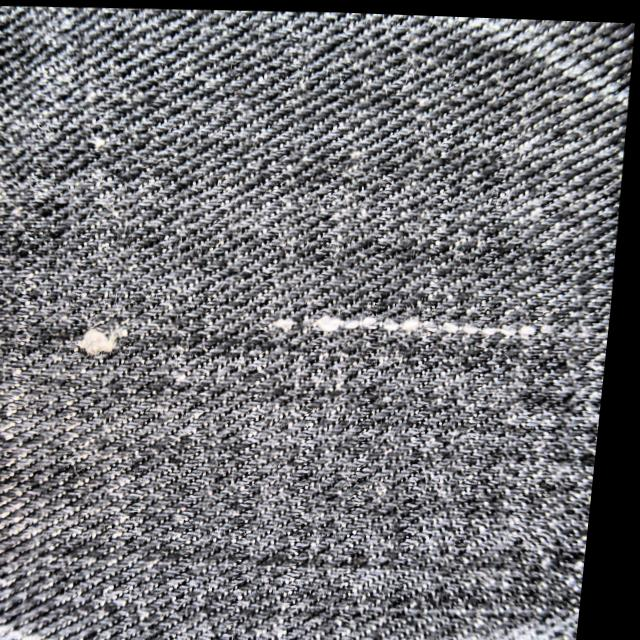Hole: (267, 294, 386, 353), (68, 306, 147, 382), (393, 297, 508, 348)
